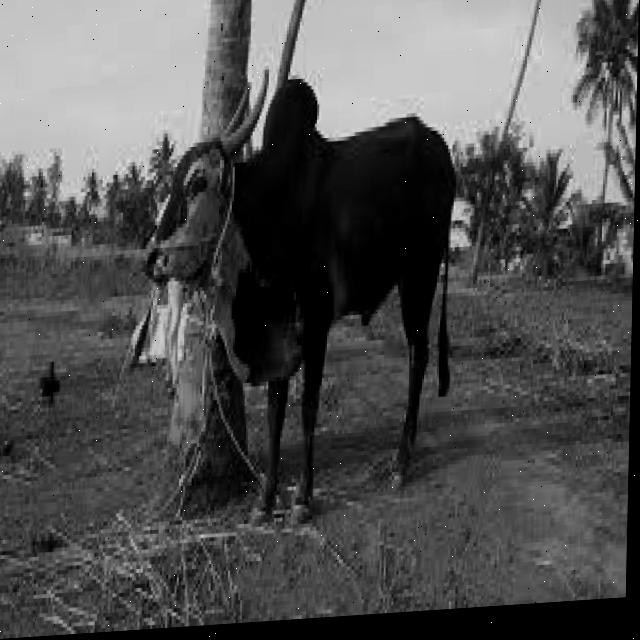Cow: (118, 53, 470, 551)
